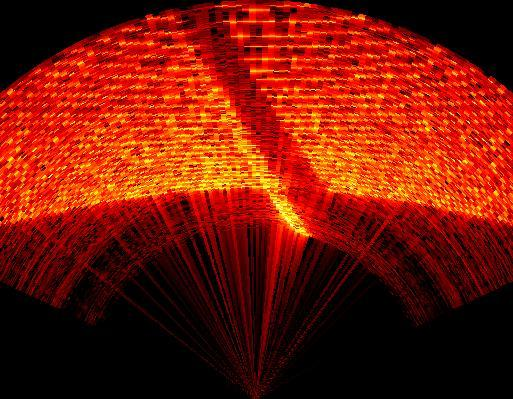pipe: (174, 7, 338, 231)
